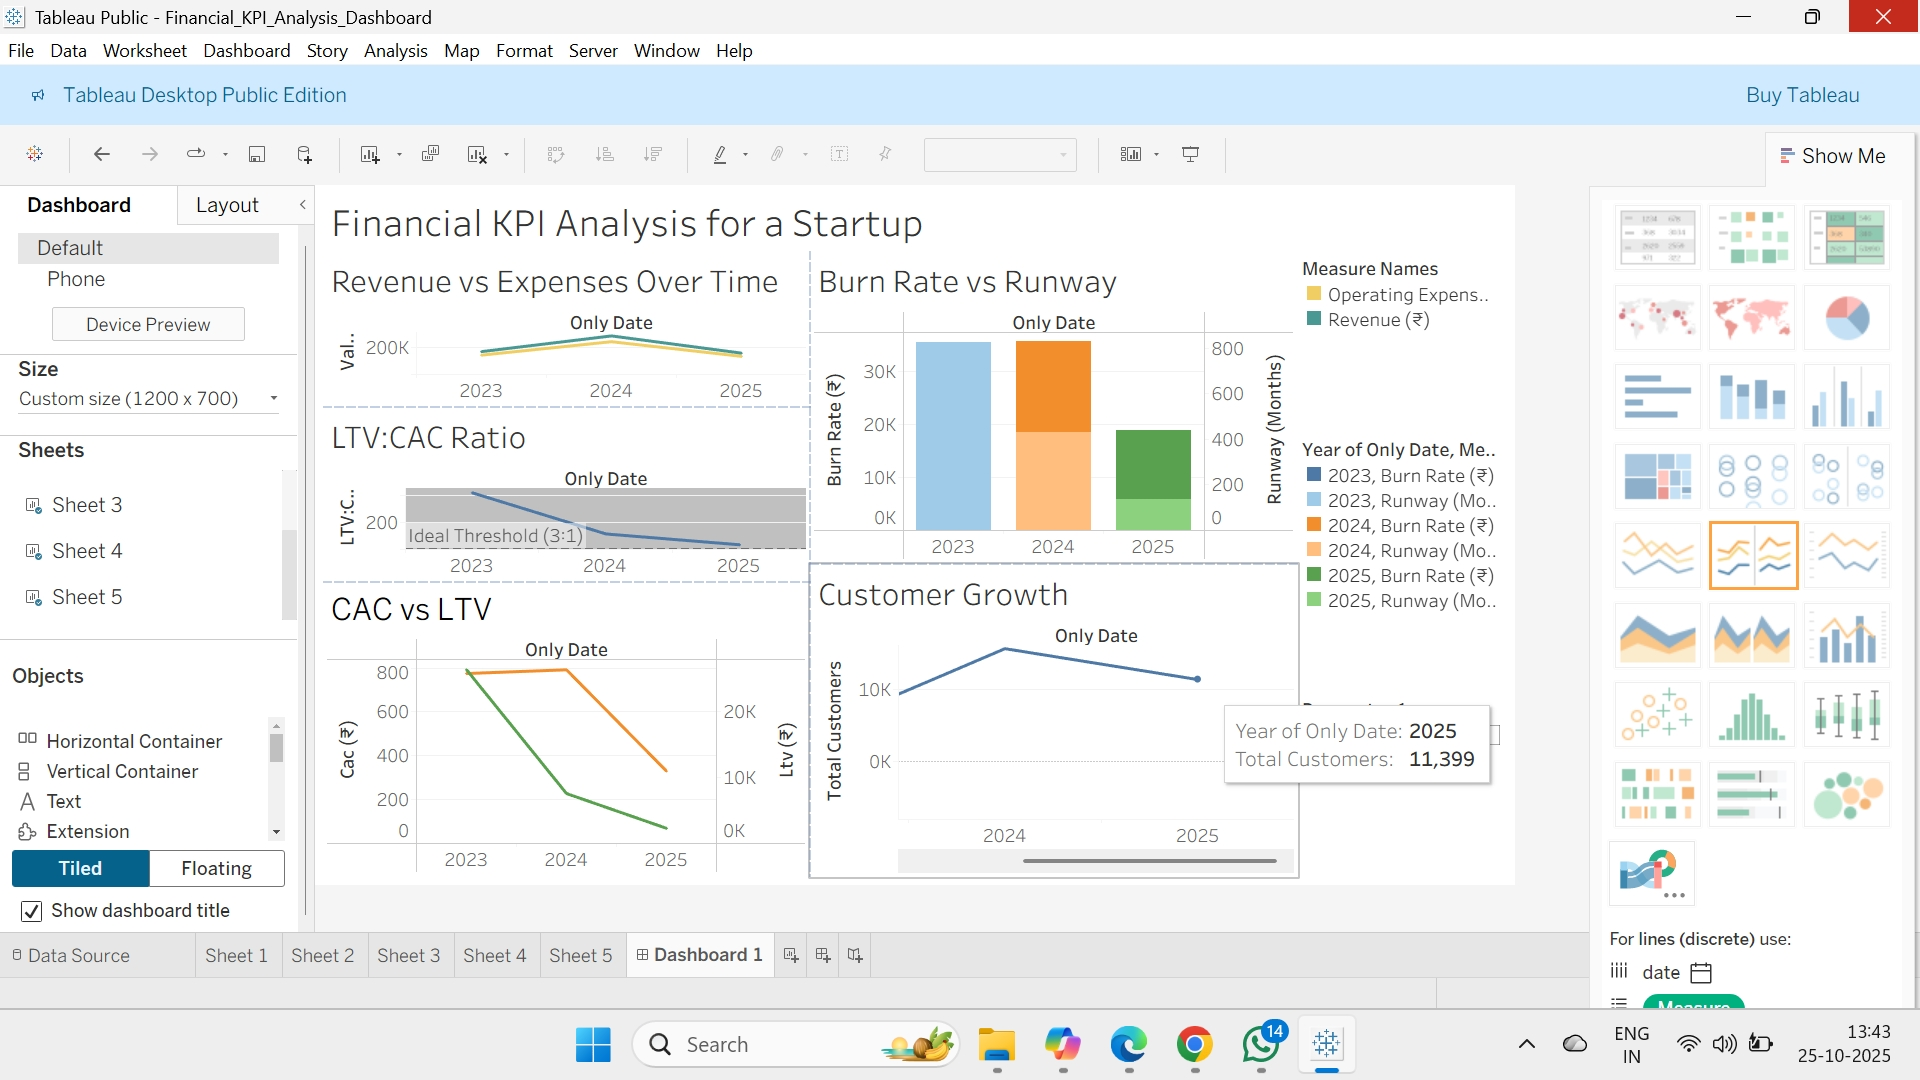

Layout of this report page (visuals, bound fields, positions):
{"tool":"tableau","page":{"name":"Dashboard 1","canvas":[1200,700],"ordinal":0},"visuals":[{"type":"title","box":[8,8,1184,58]},{"type":"worksheet","title":"Sheet 1","mark":"Automatic","cols":["Only Date"],"box":[8,66,487.4,156.5]},{"type":"worksheet","title":"Sheet 3","mark":"Bar","rows":["Burn Rate (₹)","Runway (Months)"],"cols":["Only Date"],"box":[495.4,66,487.6,313]},{"type":"legend","title":"Sheet 1","param":"[federated.03j3kmv05yj77o14gxv4c1spcrk3].[:Measure Names]","box":[983,66,209,181]},{"type":"worksheet","title":"Sheet 5","mark":"Automatic","rows":["Calculation_711568808902447104"],"cols":["Only Date"],"box":[8,222.5,487.4,174.5]},{"type":"legend","title":"Sheet 3","param":"[federated.03j3kmv05yj77o14gxv4c1spcrk3].[yr:Only Date:ok]\n[federated.03j3kmv05y","box":[983,247,209,260]},{"type":"worksheet","title":"Sheet 4","mark":"Automatic","rows":["Total Customers"],"cols":["Only Date"],"box":[495.4,379,487.6,313]},{"type":"worksheet","title":"Sheet 2","mark":"Automatic","rows":["CAC (₹)","LTV (₹)"],"cols":["Only Date"],"box":[8,397,487.4,295]},{"type":"parameter","param":"[Parameters].[Parameter 1]","box":[983,507,209,60]}]}

Visuals, with their boxes on the page's 1200x700 design canvas (x1, y1, x2, y2). These are canvas units, not pixel positions in the 1920x1080 screenshot, which may show the page scaled, cropped or inside an application window:
title: box(8, 8, 1192, 66)
"Sheet 1" worksheet: box(8, 66, 495, 222)
"Sheet 3" worksheet (Bar marks): box(495, 66, 983, 379)
"Sheet 1" legend: box(983, 66, 1192, 247)
"Sheet 5" worksheet: box(8, 222, 495, 397)
"Sheet 3" legend: box(983, 247, 1192, 507)
"Sheet 4" worksheet: box(495, 379, 983, 692)
"Sheet 2" worksheet: box(8, 397, 495, 692)
parameter: box(983, 507, 1192, 567)
